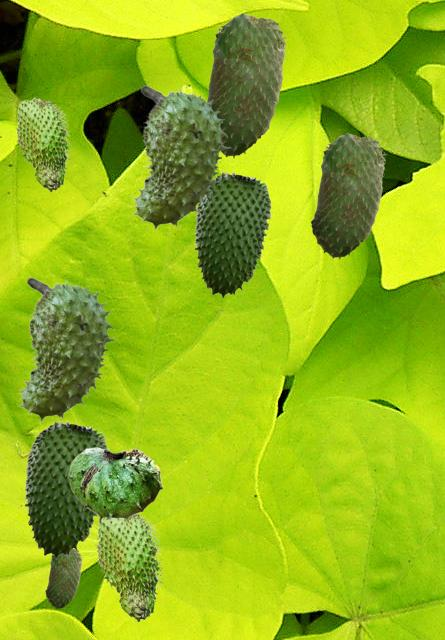guyabano: (131, 85, 230, 230), (17, 277, 116, 422), (207, 12, 286, 157), (24, 420, 107, 558), (194, 171, 270, 297), (310, 132, 385, 258), (95, 514, 162, 621), (67, 447, 162, 522), (15, 97, 70, 191), (45, 549, 81, 608)
